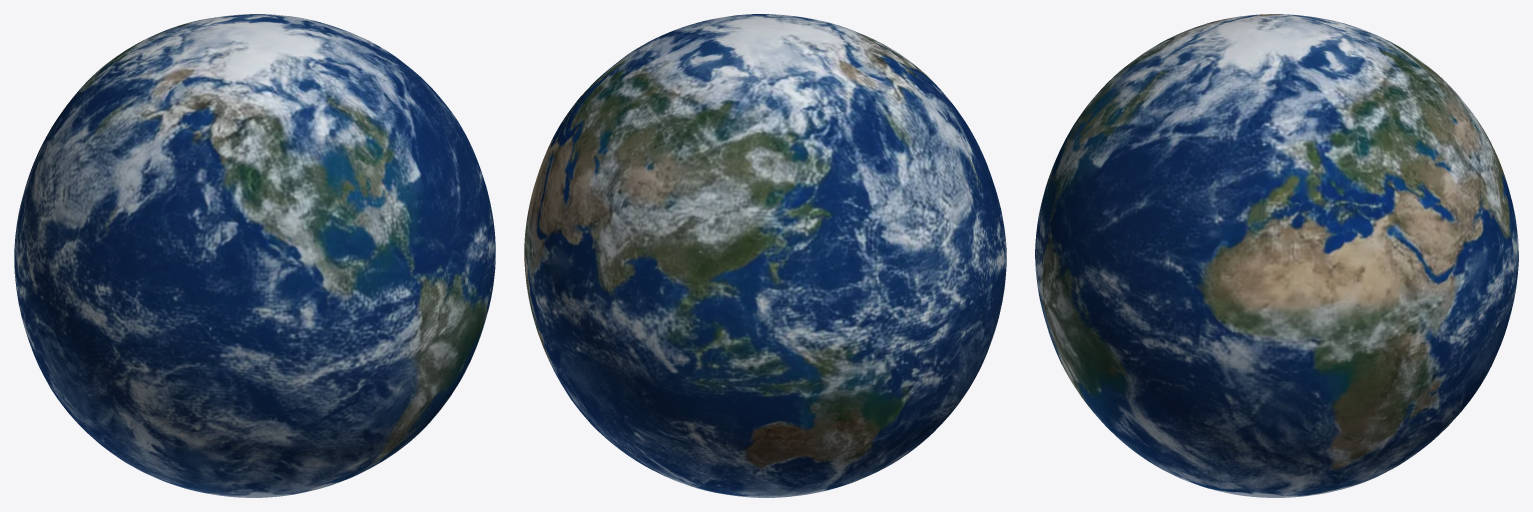
The model's file is c1_earth.glb.
3 renders of one model, left to right at view 1: azimuth 30°, elevation 25°; view 2: azimuth 150°, elevation 25°; view 3: azimuth 270°, elevation 25°, orthographic.
Visible parts, largest first — view 1: geometry_0; view 2: geometry_0; view 3: geometry_0.
Boxes of the visible parts, x1,y1,x2,y2 form: geometry_0: (14,14,495,497); geometry_0: (524,14,1006,497); geometry_0: (1035,14,1518,497).
Size of the model in its own units: 1.27e+07 by 1.27e+07 by 1.27e+07.
1 material, 1 textured.
